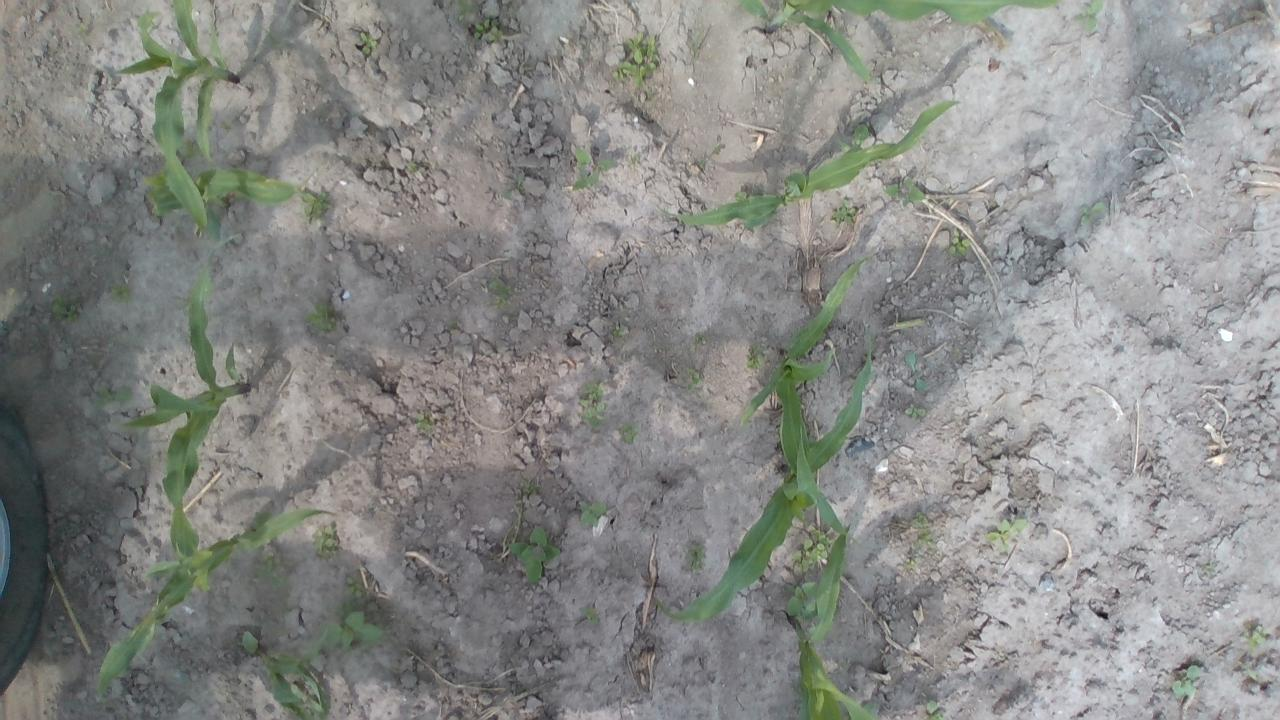Maize: (653, 333, 871, 621), (97, 505, 337, 696), (118, 246, 252, 556), (659, 100, 963, 230), (114, 0, 242, 230), (741, 258, 868, 472), (736, 0, 1058, 83), (785, 524, 874, 720), (146, 166, 322, 241), (238, 631, 331, 720)
Weeds: (508, 526, 560, 584), (326, 600, 384, 652), (612, 33, 658, 88), (790, 520, 832, 574), (572, 146, 614, 192), (784, 580, 818, 621), (987, 518, 1027, 552), (579, 378, 606, 428), (886, 175, 924, 206), (255, 549, 285, 587), (1072, 0, 1104, 34), (1172, 663, 1202, 697), (306, 302, 336, 334), (903, 352, 926, 393), (834, 127, 870, 153), (311, 526, 340, 558), (578, 500, 606, 528), (301, 189, 328, 218), (488, 278, 514, 308), (96, 386, 130, 408), (918, 530, 941, 560), (830, 199, 856, 225), (1242, 624, 1268, 650), (472, 18, 500, 42), (686, 542, 708, 572), (1080, 202, 1104, 226), (949, 230, 972, 255), (52, 299, 78, 321), (503, 172, 525, 198), (358, 32, 378, 56), (745, 345, 763, 371), (457, 0, 479, 21), (910, 512, 932, 532), (620, 422, 640, 442), (580, 604, 600, 624), (926, 701, 946, 720), (182, 138, 200, 159), (684, 368, 701, 390), (520, 479, 540, 496), (416, 413, 434, 431), (346, 578, 362, 598), (906, 404, 926, 420), (112, 285, 130, 301), (732, 189, 749, 202), (1202, 562, 1217, 576), (905, 557, 919, 571), (627, 152, 641, 166), (709, 141, 722, 156), (696, 156, 708, 172), (692, 334, 707, 346), (78, 22, 90, 36), (613, 324, 626, 336), (407, 162, 420, 174), (448, 320, 460, 332), (690, 40, 701, 52), (270, 36, 281, 47), (952, 348, 962, 357)
